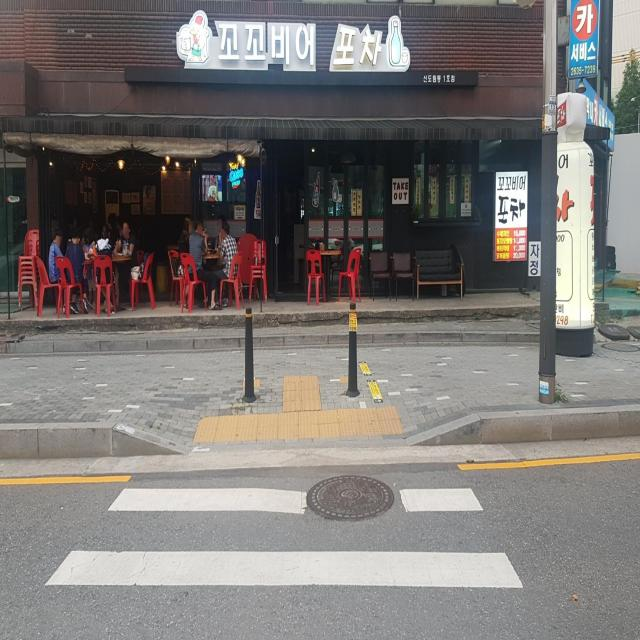횡단보도: (44, 488, 524, 592)
